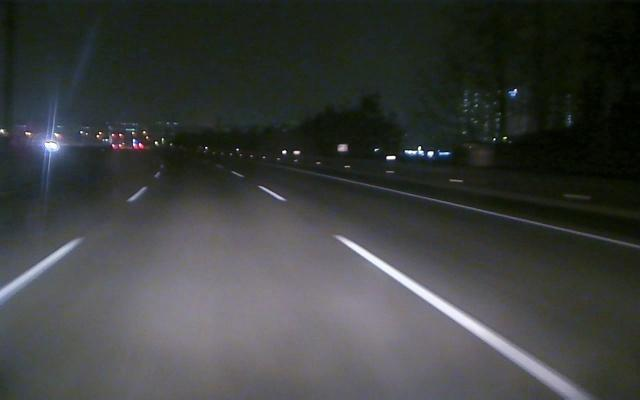lane: (260, 185, 600, 399), (335, 175, 640, 249), (3, 188, 145, 302)
